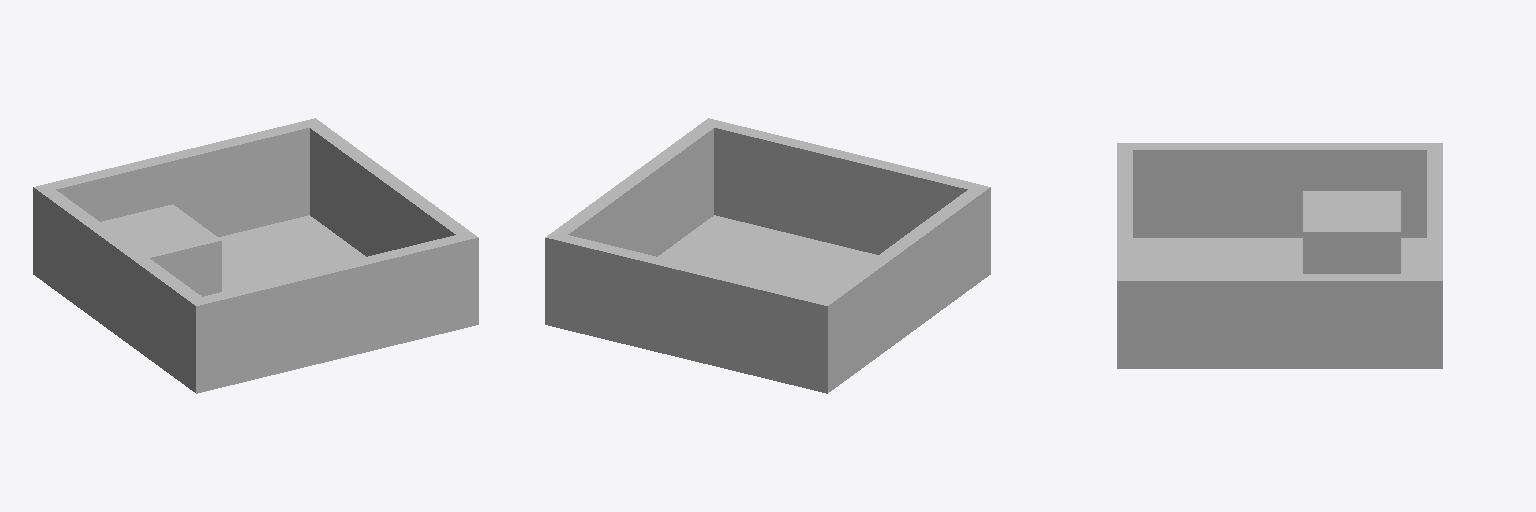
The model's file is test_map.obj.
3 views of the same model, side by side, from view 1: azimuth 30°, elevation 25°; view 2: azimuth 150°, elevation 25°; view 3: azimuth 270°, elevation 25° (orthographic).
Visible parts, largest first — view 1: Plane; view 2: Plane; view 3: Plane.
Boxes of the visible parts, x1,y1,x2,y2 form: Plane: [33, 118, 478, 393]; Plane: [545, 118, 990, 393]; Plane: [1117, 143, 1442, 368].
Bounding box in the file's own units: 6 × 1.78 × 6.